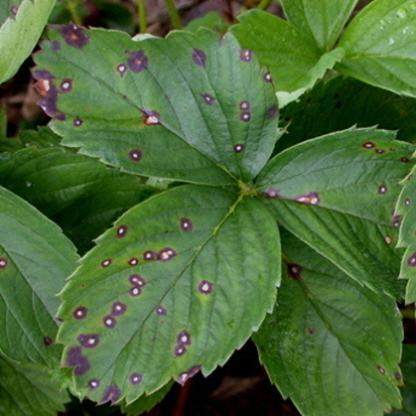Strawberry_Leaf_Spot: (54, 184, 283, 406), (30, 17, 280, 186), (250, 123, 416, 302), (252, 221, 405, 415), (0, 185, 84, 386), (0, 0, 57, 85)
